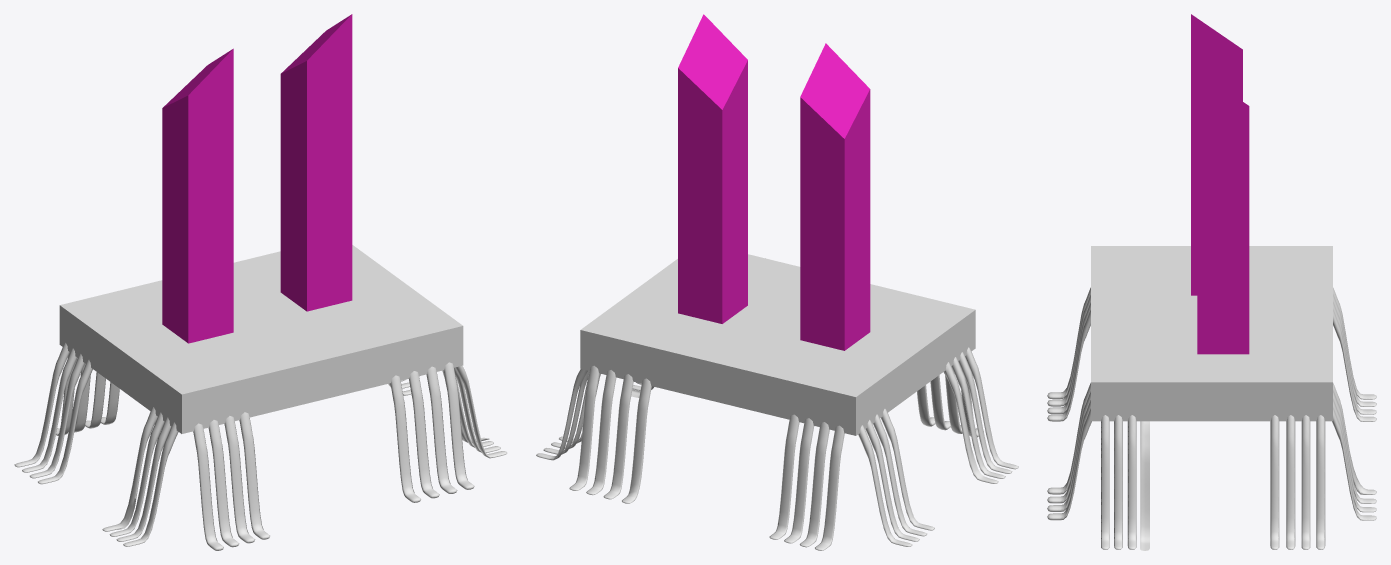
The picture shows the model from 3 angles, left to right: view 1: azimuth 30°, elevation 25°; view 2: azimuth 150°, elevation 25°; view 3: azimuth 270°, elevation 25°; orthographic projection. The views are drawn at different scales.
Parts seen in each view (by area): view 1: Cube, Cube.001, Plane.001, Plane; view 2: Cube, Cube.001, Plane, Plane.001; view 3: Cube, Cube.001, Plane.001, Plane.
Boxes of the visible parts, x1=… form: Cube: x1=59, y1=245, x2=463, y2=433; Cube.001: x1=14, y1=343, x2=507, y2=550; Plane.001: x1=280, y1=14, x2=352, y2=311; Plane: x1=162, y1=48, x2=233, y2=343; Cube: x1=580, y1=254, x2=975, y2=435; Cube.001: x1=536, y1=347, x2=1018, y2=550; Plane: x1=800, y1=43, x2=870, y2=350; Plane.001: x1=678, y1=14, x2=747, y2=323; Cube: x1=1091, y1=246, x2=1332, y2=421; Cube.001: x1=1047, y1=287, x2=1376, y2=550; Plane.001: x1=1197, y1=70, x2=1249, y2=354; Plane: x1=1191, y1=14, x2=1242, y2=295.
Size of the model in its own units: 4242 by 4560 by 3182.
